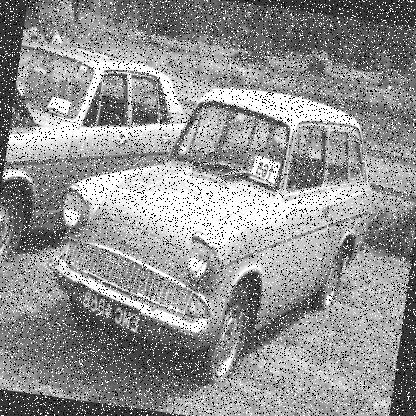Car: (31, 60, 387, 402), (0, 36, 217, 289)
